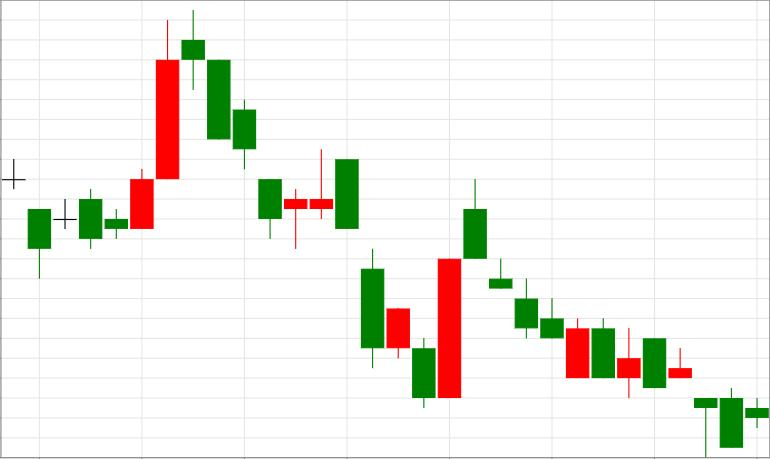evening_star_fall: (28, 9, 231, 280)
